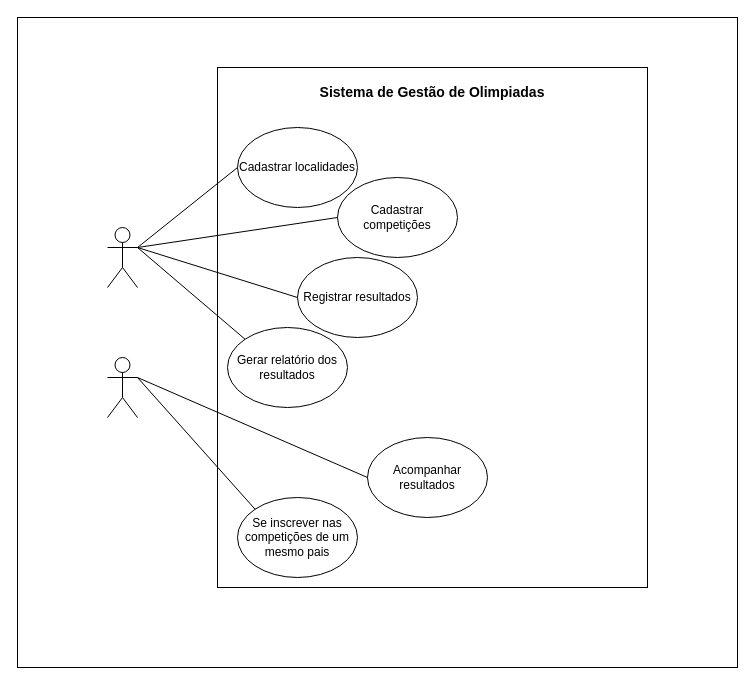
The diagram is 755 pixels wide and 685 high, and some of its shapes have lost their labels. The centre of each missing label's shape, as x and y in pixels:
Administrador: pixel 122 257
Atleta: pixel 122 387
